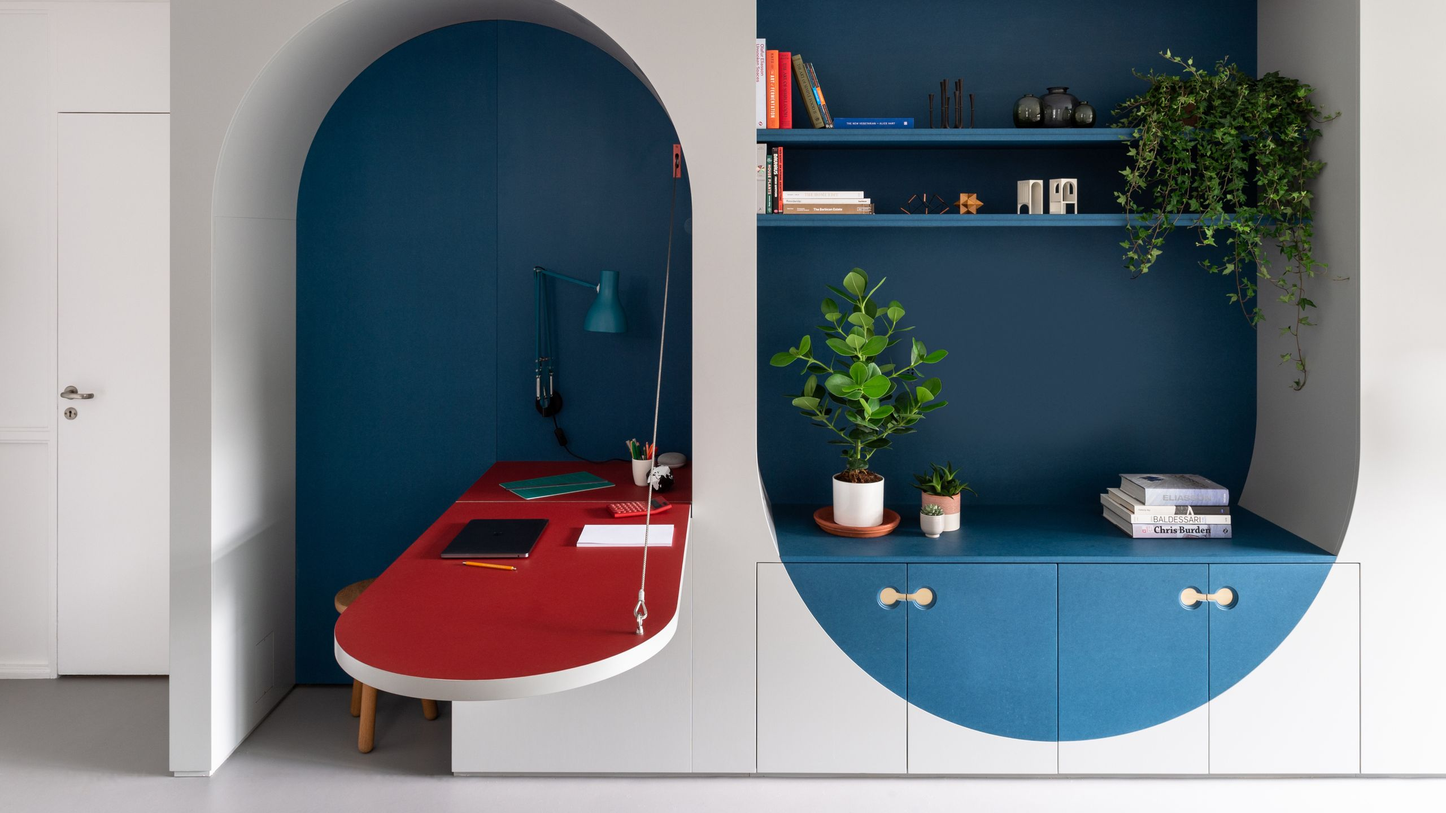not a gesture sign: (295, 22, 673, 588), (58, 113, 169, 674)
